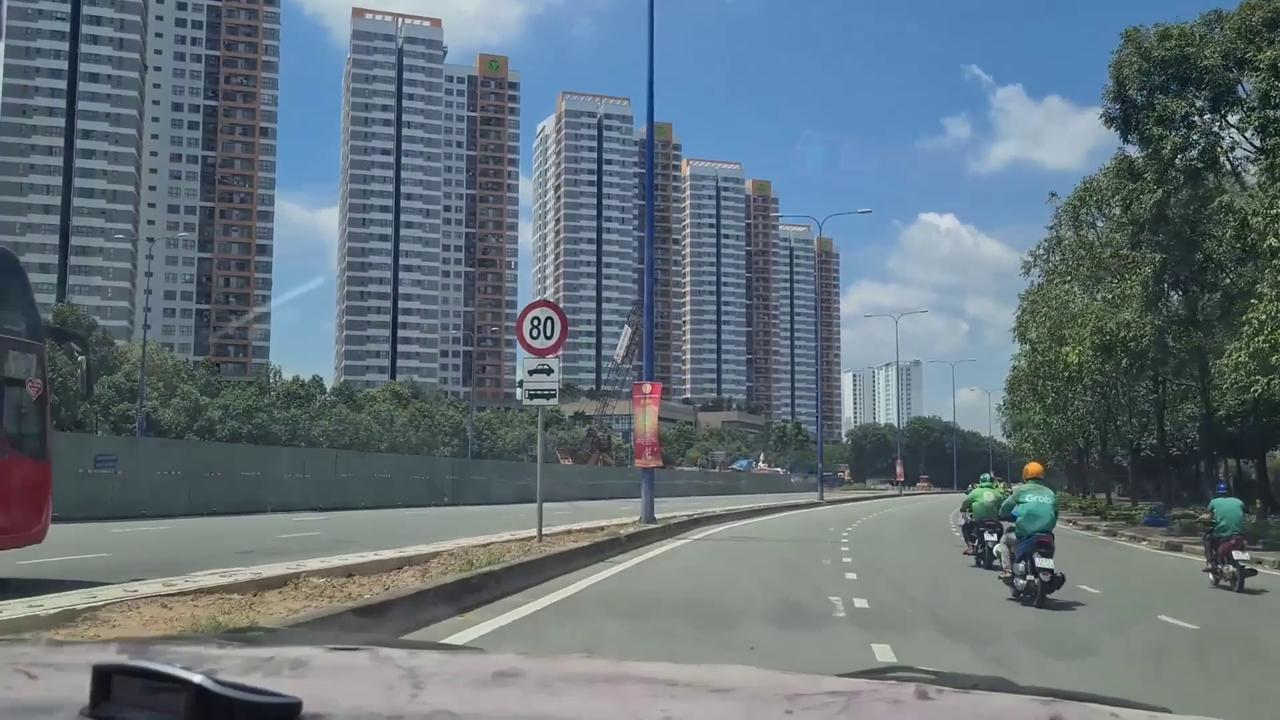Biển phụ: (521, 356, 562, 406)
Giới hạn tốc độ 80Km/h: (514, 295, 570, 359)
